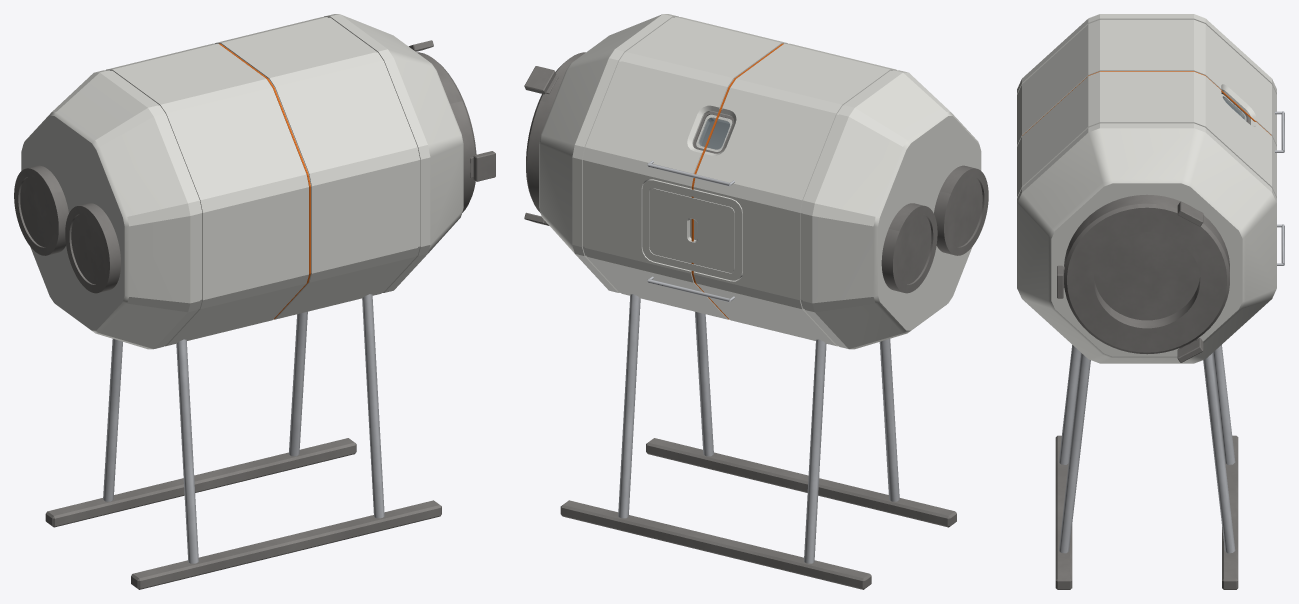
File: ax_station_17_surface_airlock.glb
3 renders of one model, left to right at view 1: azimuth 30°, elevation 25°; view 2: azimuth 150°, elevation 25°; view 3: azimuth 270°, elevation 25°, orthographic. The views are drawn at different scales.
Visible parts, largest first — view 1: pressure_hull, skids, skid_struts, suitport_rings, suitport_hatches, port_top, port_top_petals, orange_stripes; view 2: pressure_hull, skids, skid_struts, hatch_door_2, suitport_rings, suitport_hatches, port_top, port_top_petals, handrails, window_glass; view 3: pressure_hull, port_top, hatch_door_1, skid_struts, skids, port_top_petals, handrails.
Part boxes in pixels (x1=…): pressure_hull: x1=21, y1=14, x2=463, y2=349; skids: x1=45, y1=438, x2=441, y2=589; skid_struts: x1=103, y1=294, x2=384, y2=563; suitport_rings: x1=14, y1=165, x2=120, y2=293; suitport_hatches: x1=20, y1=176, x2=105, y2=284; port_top: x1=417, y1=52, x2=476, y2=212; port_top_petals: x1=409, y1=40, x2=495, y2=181; orange_stripes: x1=219, y1=43, x2=310, y2=319; pressure_hull: x1=539, y1=14, x2=981, y2=349; skids: x1=560, y1=438, x2=956, y2=589; skid_struts: x1=618, y1=294, x2=899, y2=563; hatch_door_2: x1=642, y1=179, x2=742, y2=280; suitport_rings: x1=881, y1=165, x2=988, y2=293; suitport_hatches: x1=897, y1=176, x2=982, y2=284; port_top: x1=526, y1=52, x2=585, y2=212; port_top_petals: x1=524, y1=66, x2=558, y2=225; handrails: x1=647, y1=160, x2=734, y2=302; window_glass: x1=698, y1=117, x2=730, y2=149; pressure_hull: x1=1017, y1=14, x2=1276, y2=363; port_top: x1=1064, y1=194, x2=1229, y2=354; hatch_door_1: x1=1094, y1=232, x2=1199, y2=320; skid_struts: x1=1058, y1=345, x2=1235, y2=553; skids: x1=1055, y1=435, x2=1238, y2=589; port_top_petals: x1=1057, y1=201, x2=1203, y2=362; handrails: x1=1275, y1=111, x2=1284, y2=265.
Bounding box in the file's own units: 4.2 × 4.75 × 2.58.
5 materials, 2 textured.
